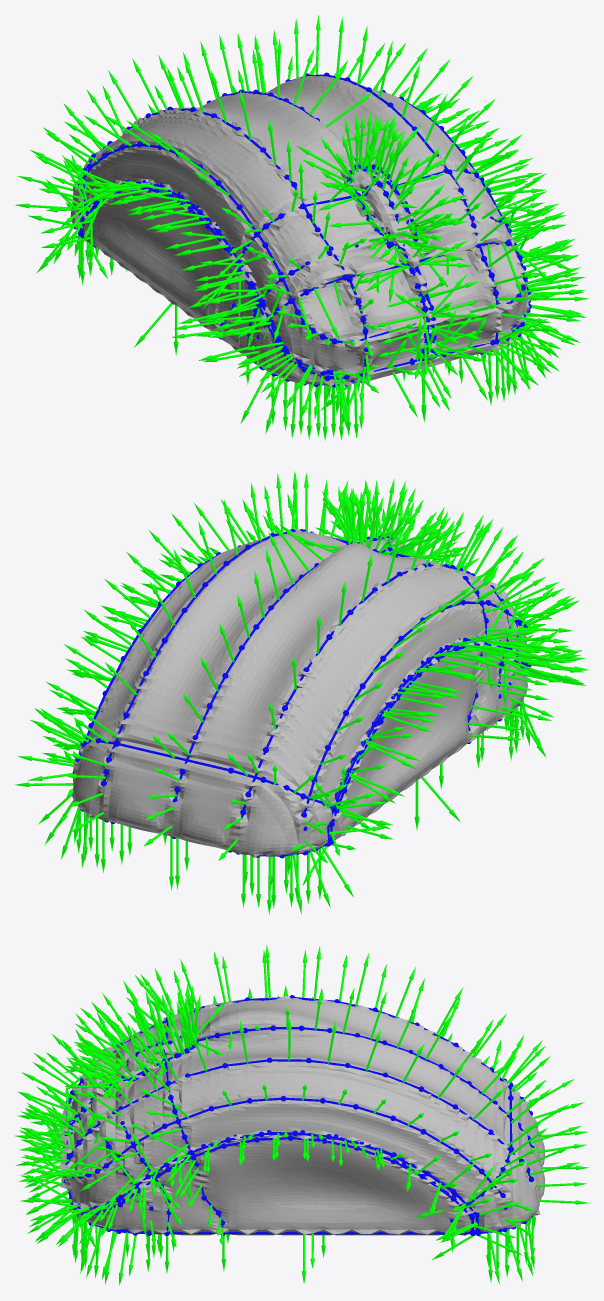
Rendered from flowrep_mouse.gltf.
3 renders of one model, top to bottom at view 1: azimuth 30°, elevation 25°; view 2: azimuth 150°, elevation 25°; view 3: azimuth 270°, elevation 25°, orthographic. The views are drawn at different scales.
Bounding box in the file's own units: 0.6631 × 0.4907 × 1.03.
